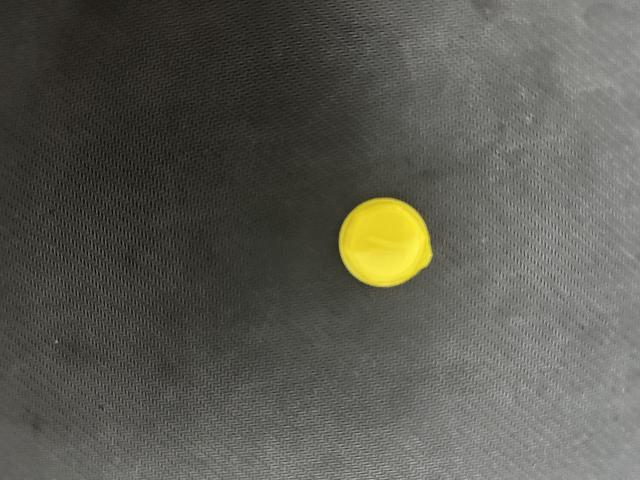Plastik: (338, 192, 433, 292)
